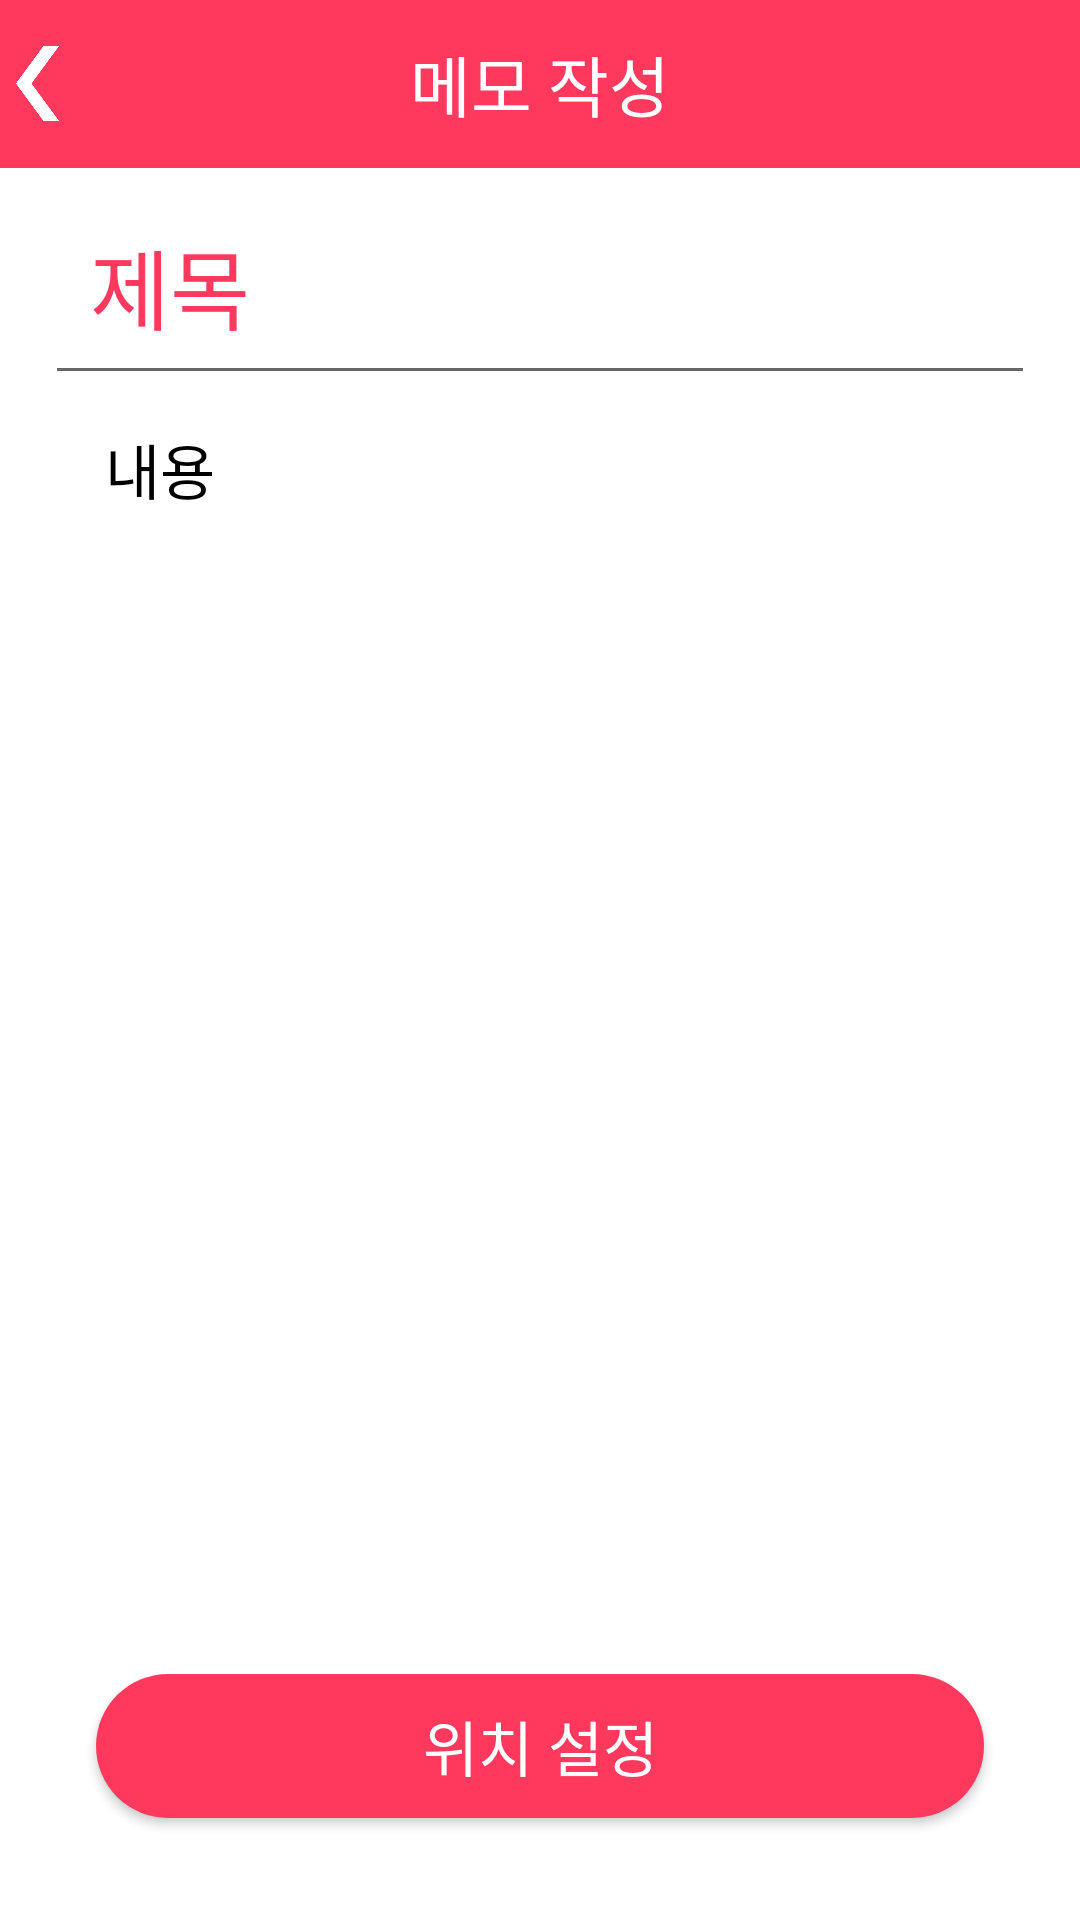

Locate icon controls on the screen. Image size 1080px x 1920px, boxes as BBox(x1, y1, x2, y2).
back: BBox(16, 46, 59, 121)
